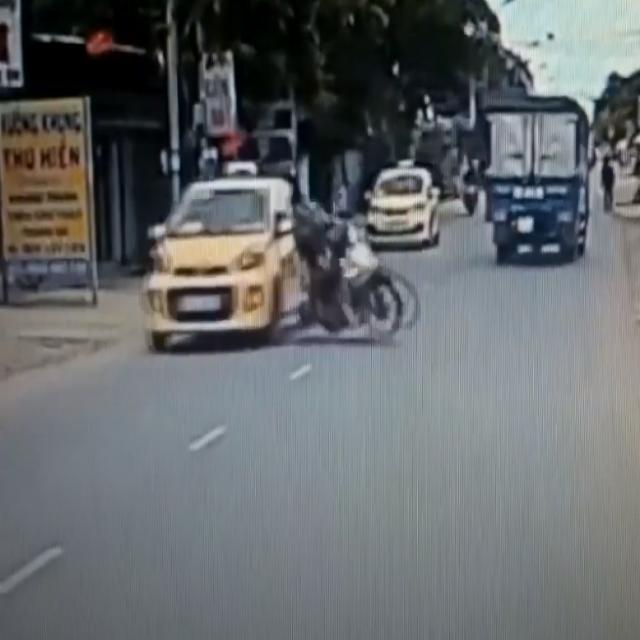accident: (138, 174, 410, 356)
non-accident: (461, 95, 592, 265), (364, 160, 478, 250)
